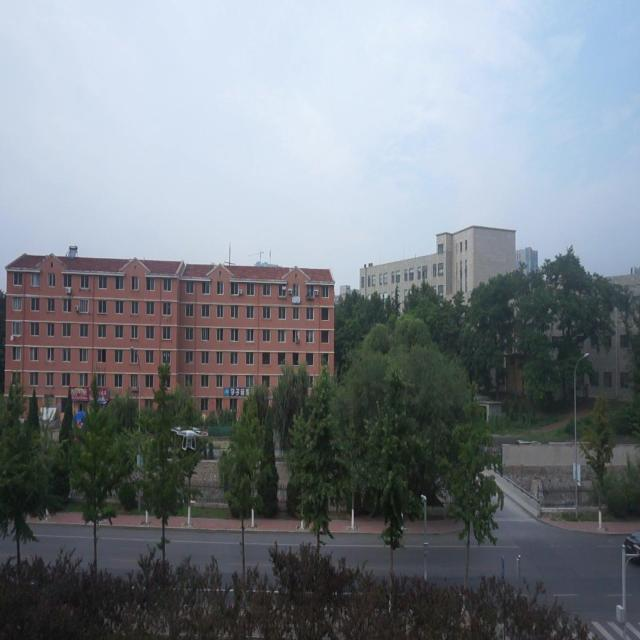drone: (171, 423, 209, 454)
